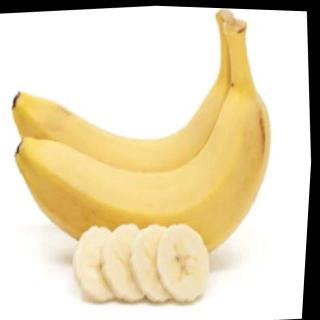banana: (4, 76, 287, 280), (3, 67, 256, 227)
